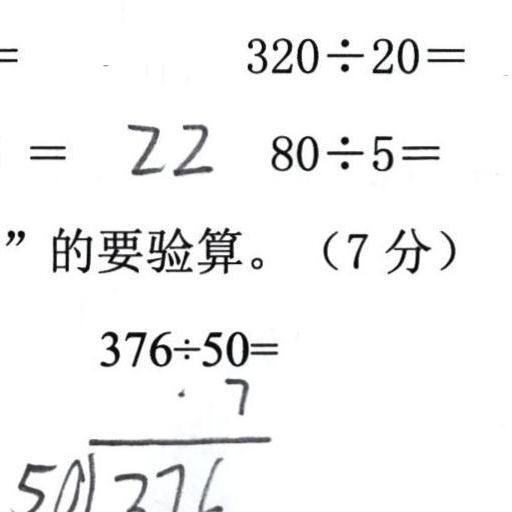ans: (121, 112, 213, 179)
